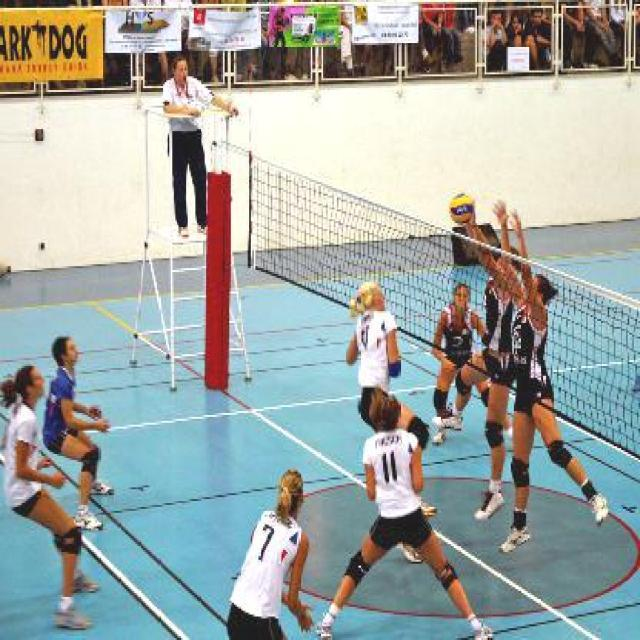volleyball: (450, 192, 472, 224)
